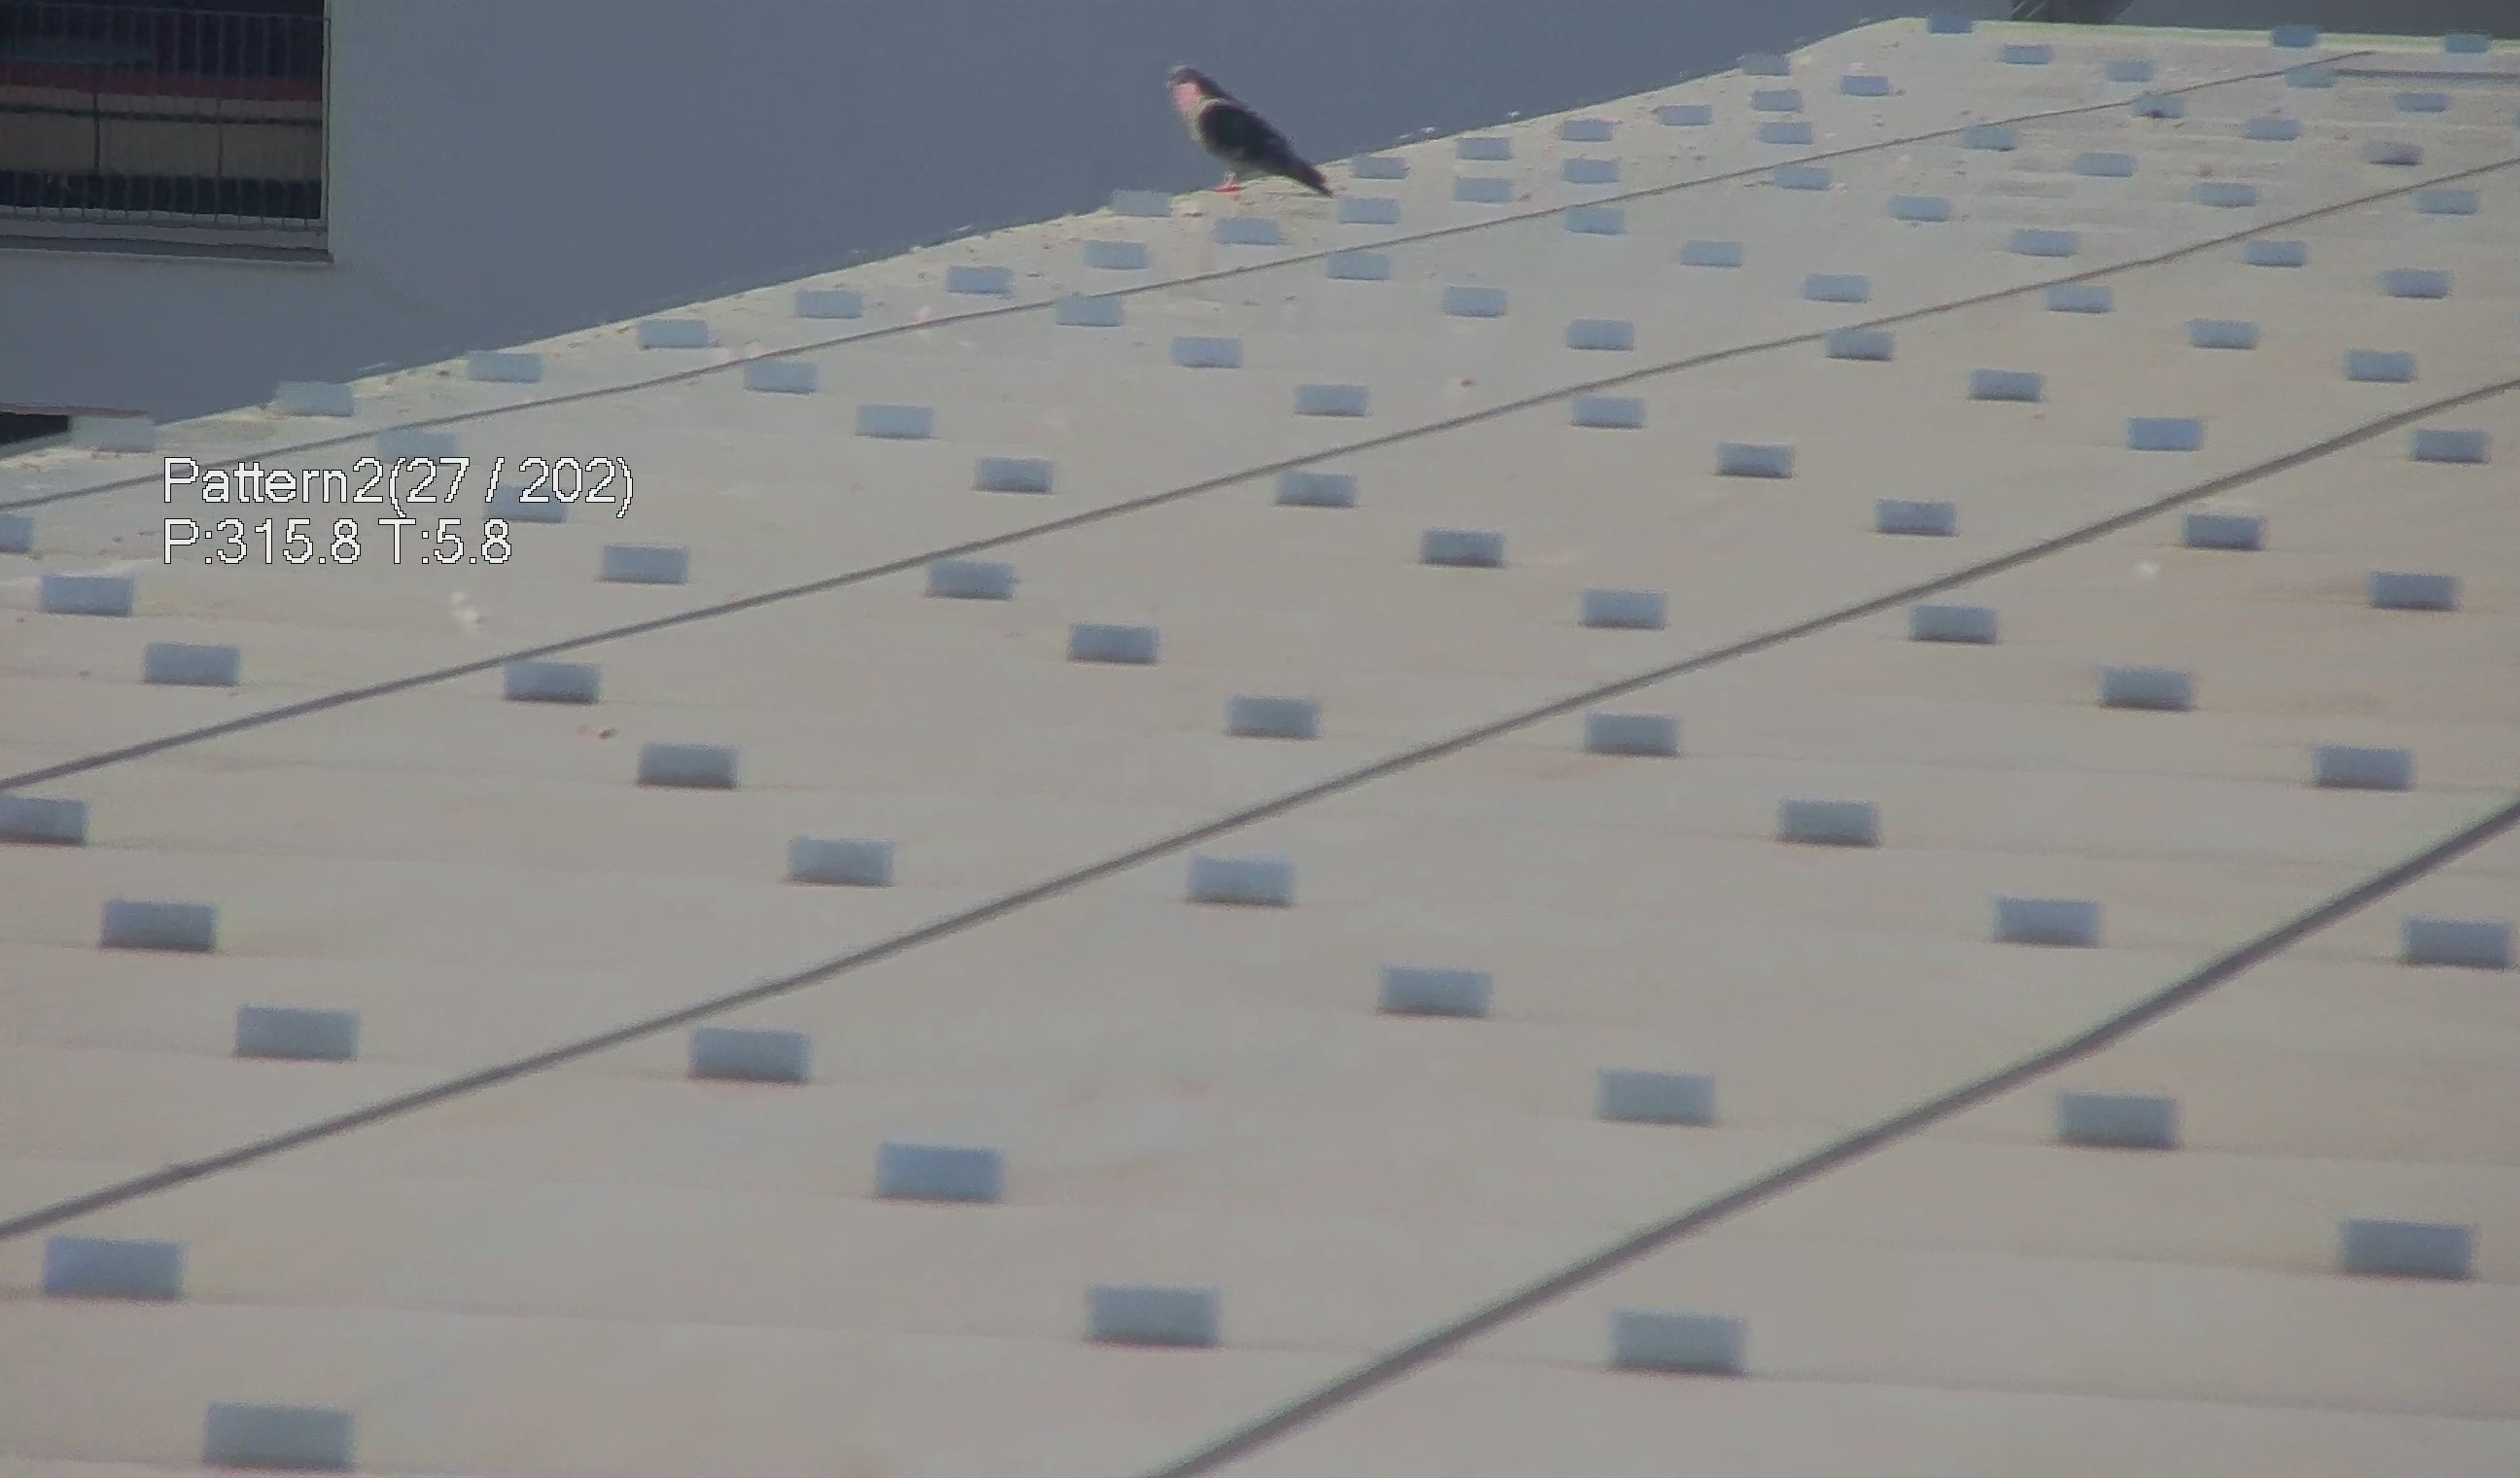Pigeon: (1147, 48, 1338, 201)
